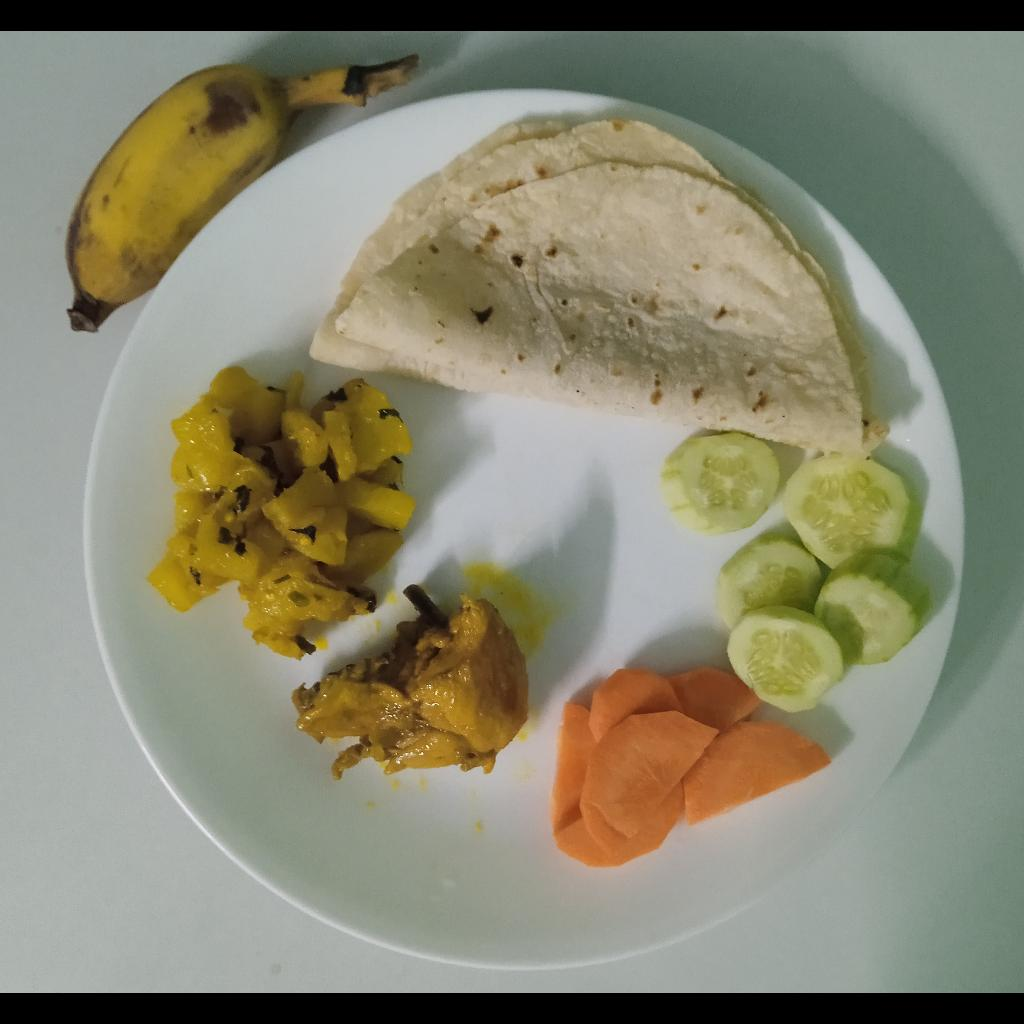banana: (64, 53, 418, 333)
carrot: (551, 668, 831, 869)
chicken: (292, 585, 530, 776)
cucumber: (716, 456, 930, 716), (663, 432, 781, 539)
ruti: (309, 118, 891, 454)
vegetable: (146, 367, 415, 663)
